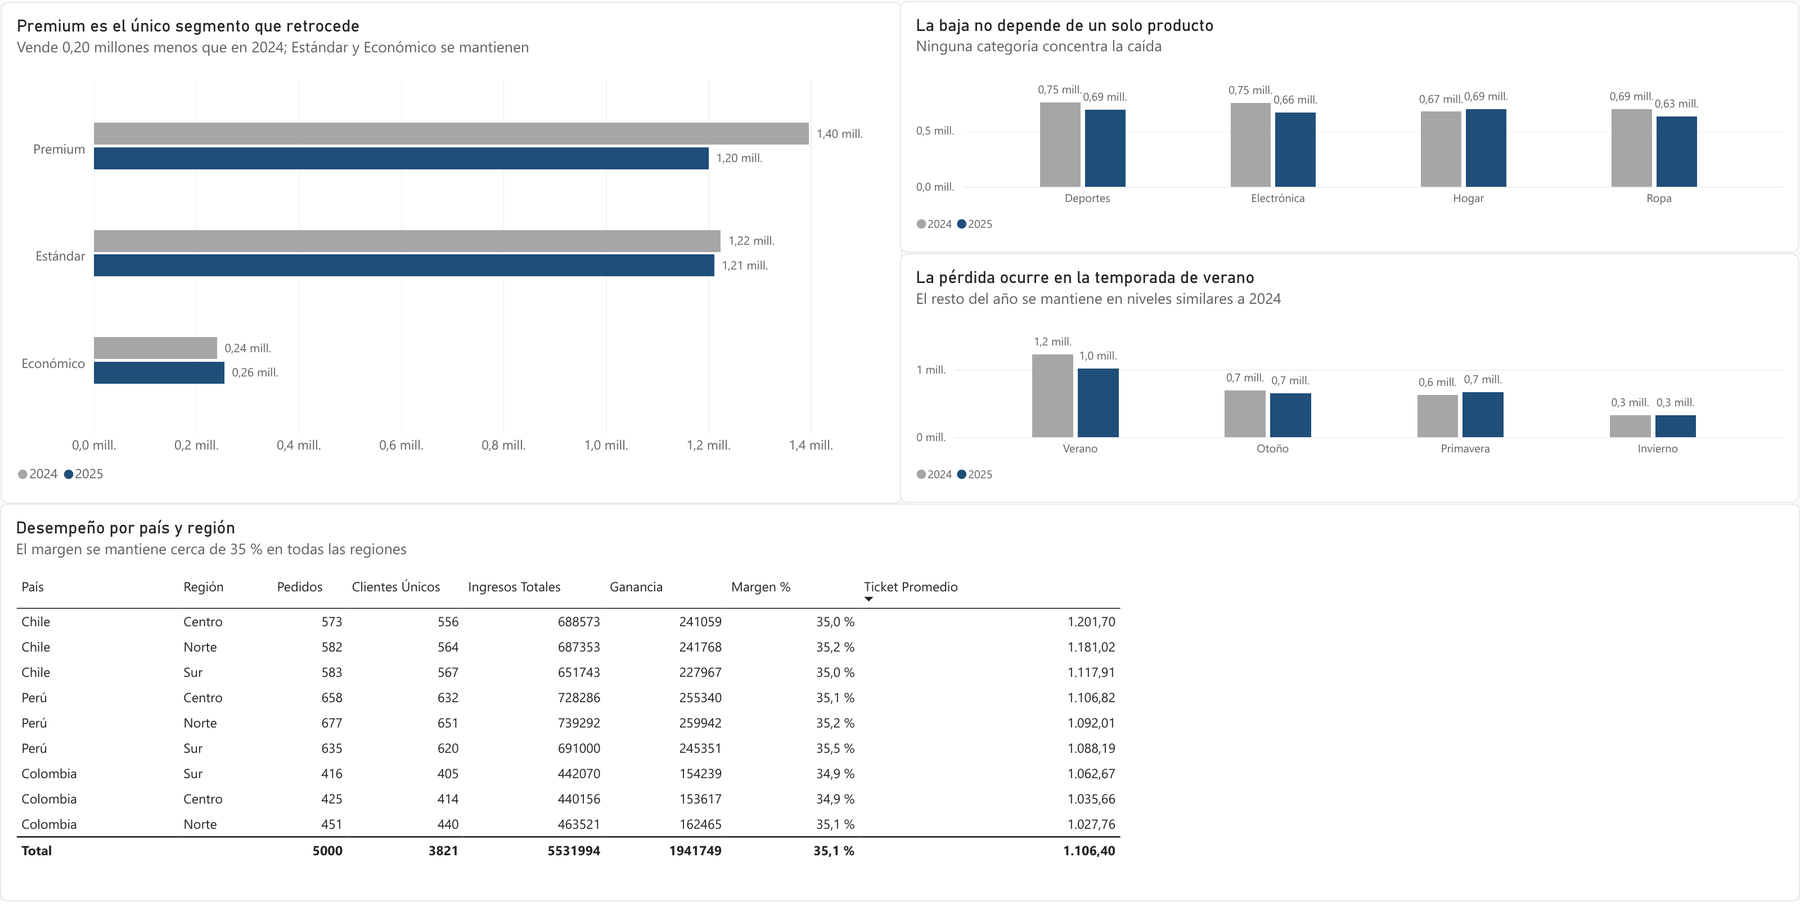

The page's visual inventory and layout, read from the dashboard file:
{"tool":"powerbi","page":{"name":"Detalle","canvas":[1920,1080],"ordinal":1},"visuals":[{"type":"textbox","box":[0,0,682.9,87.1],"z":0},{"type":"slicer","fields":{"Values":["Ventas.Fecha_Pedido"]},"box":[698.8,0,610.4,131.7],"z":1},{"type":"slicer","fields":{"Values":["Ventas.País"]},"box":[1309.2,0,305.2,94.8],"z":2},{"type":"slicer","fields":{"Values":["Ventas.Segmento_Cliente"]},"box":[1614.5,0,305.2,94.8],"z":3},{"type":"clusteredBarChart","title":"Premium es el único segmento que retrocede","fields":{"Category":["Ventas.Segmento_Cliente"],"Series":["Ventas.Año"],"Y":["Ventas.Ingresos Totales"]},"box":[1.4,121.4,960.6,534.9],"z":4},{"type":"clusteredColumnChart","title":"La pérdida ocurre en la temporada de verano","fields":{"Category":["Ventas.Estación"],"Series":["Ventas.Año"],"Y":["Ventas.Ingresos Totales"]},"box":[960,388.6,959,266.7],"z":5},{"type":"clusteredColumnChart","title":"La baja no depende de un solo producto","fields":{"Category":["Ventas.Categoría_Producto"],"Series":["Ventas.Año"],"Y":["Ventas.Ingresos Totales"]},"box":[960,120,959,268.3],"z":6},{"type":"tableEx","title":"Desempeño por país y región","fields":{"Values":["Ventas.País","Ventas.Región","Ventas.Pedidos","Ventas.Clientes Únicos","Ventas.Ingresos Totales","Ventas.Ganancia","Ventas.Margen %","Ventas.Ticket Promedio"]},"box":[0,655.7,1920,424.3],"z":7}]}

Visuals, with their boxes on the page's 1920x1080 design canvas (x1, y1, x2, y2). These are canvas units, not pixel positions in the 1800x907 screenshot, which may show the page scaled, cropped or inside an application window:
textbox: l=0, t=0, r=683, b=87
slicer - Ventas.Fecha_Pedido: l=699, t=0, r=1309, b=132
slicer - Ventas.País: l=1309, t=0, r=1614, b=95
slicer - Ventas.Segmento_Cliente: l=1614, t=0, r=1920, b=95
"Premium es el único segmento que retrocede" clusteredBarChart: l=1, t=121, r=962, b=656
"La pérdida ocurre en la temporada de verano" clusteredColumnChart: l=960, t=389, r=1919, b=655
"La baja no depende de un solo producto" clusteredColumnChart: l=960, t=120, r=1919, b=388
"Desempeño por país y región" tableEx: l=0, t=656, r=1920, b=1080
